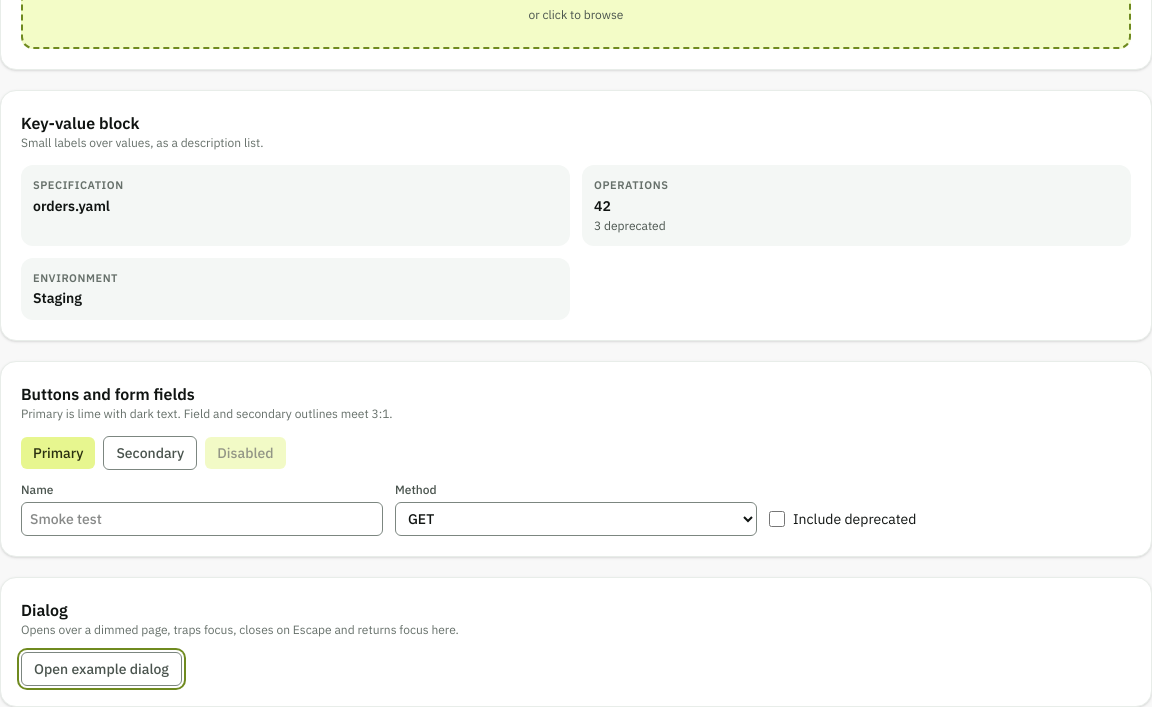
PatternLibraryPage (AP-054 FR-014) › opens and closes the example dialog, returning focus to its button
(page scrolled)
Click the button "Open example dialog" at (101,669), box [21,652,182,686]
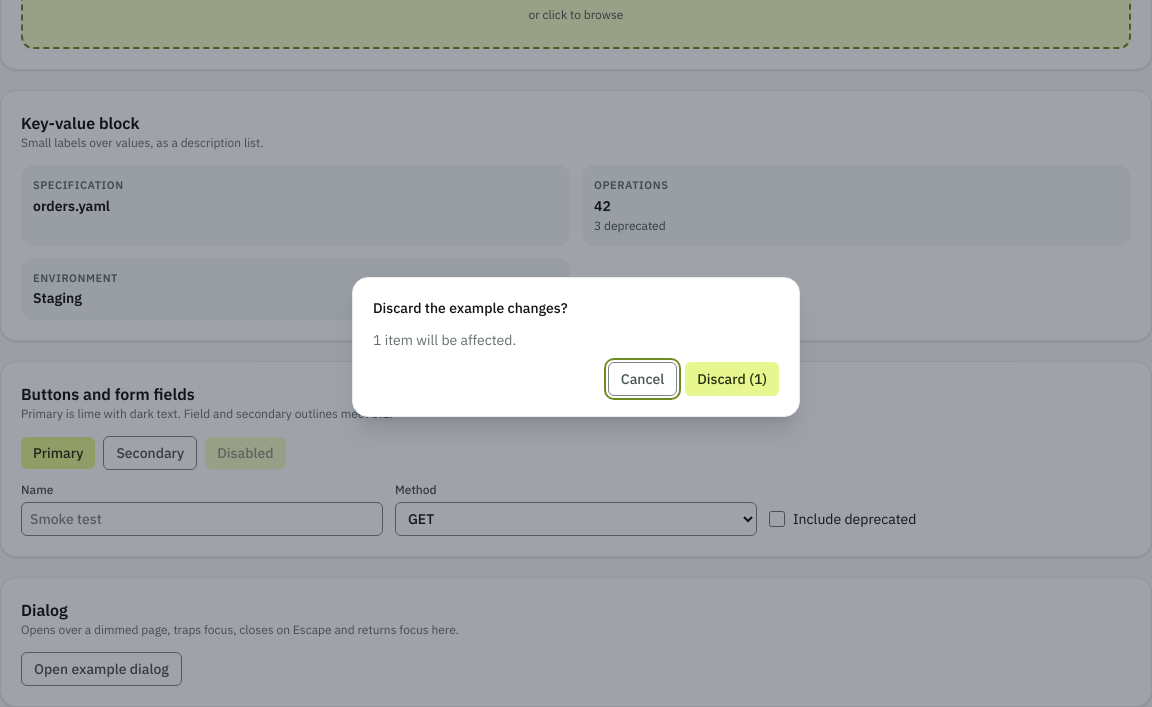
Expected: the dialog with test id "confirm-dialog" is shown, [352,277,800,417]
Press Escape
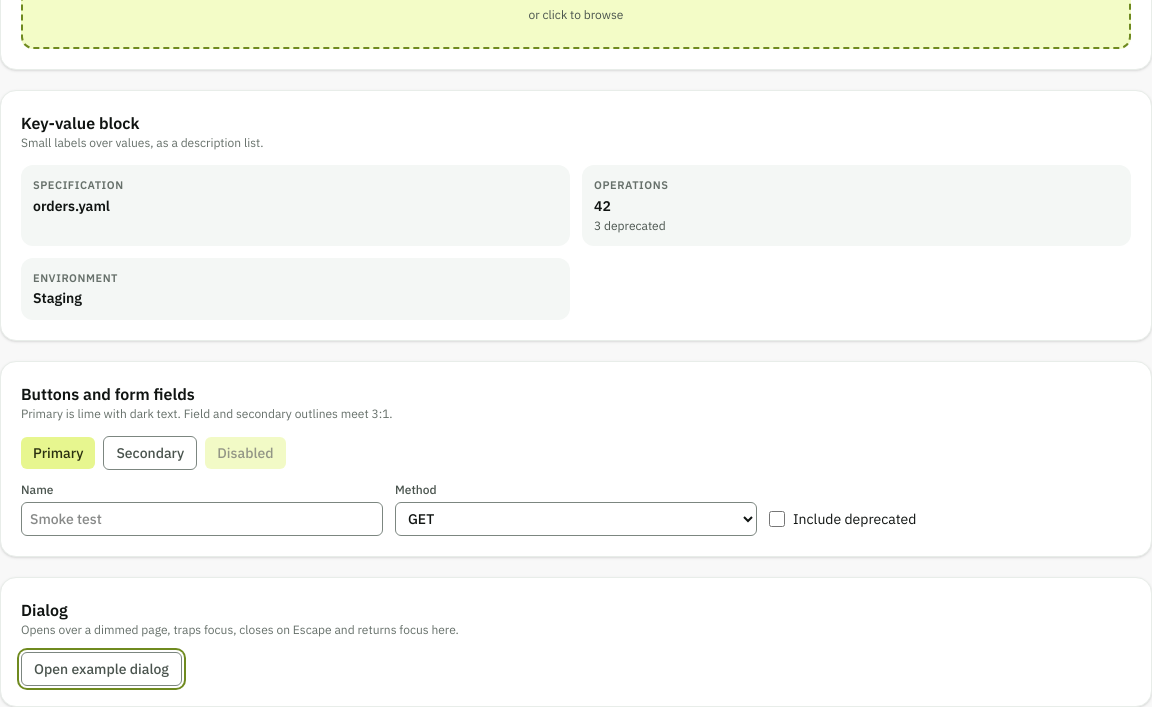
Expected: the dialog with test id "confirm-dialog" is gone
